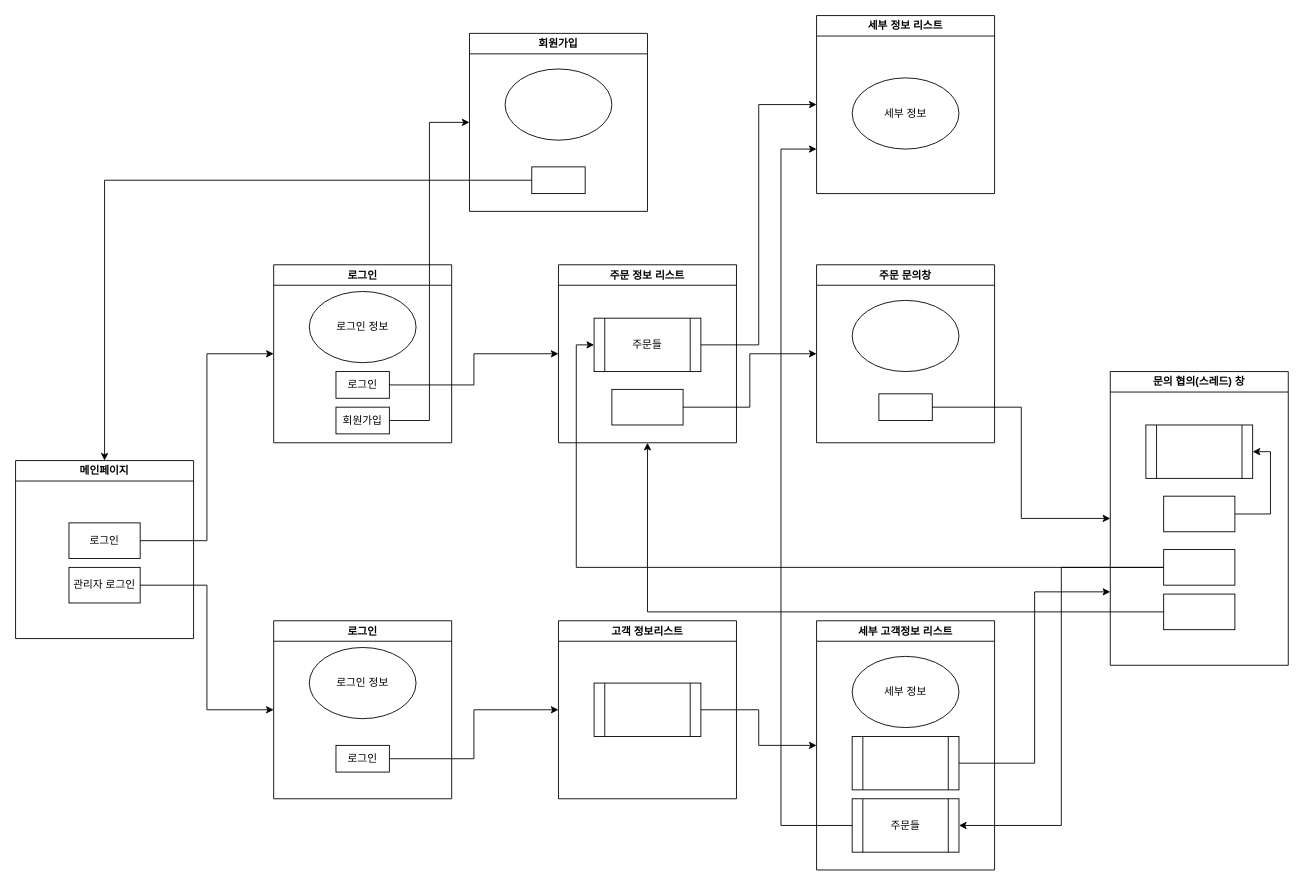
Some shapes in this 1304 by 886 pixel diagram are drawn without their labels. The centre of each missing label's shape, as x and y in pixels:
"고객들" goes at (647,709).
"스레드들" goes at (905,763).
"주문 문의하기" goes at (905,407).
"주문 추가하기" goes at (1199,567).
"주문생성" goes at (647,406).
"주문정보" goes at (905,335).
"주문창으로" goes at (1199,611).
"채팅목록" goes at (1199,451).
"채팅치기" goes at (1199,513).
"회원가입 신청" goes at (558,180).
"회원가입 정보" goes at (558,104).
